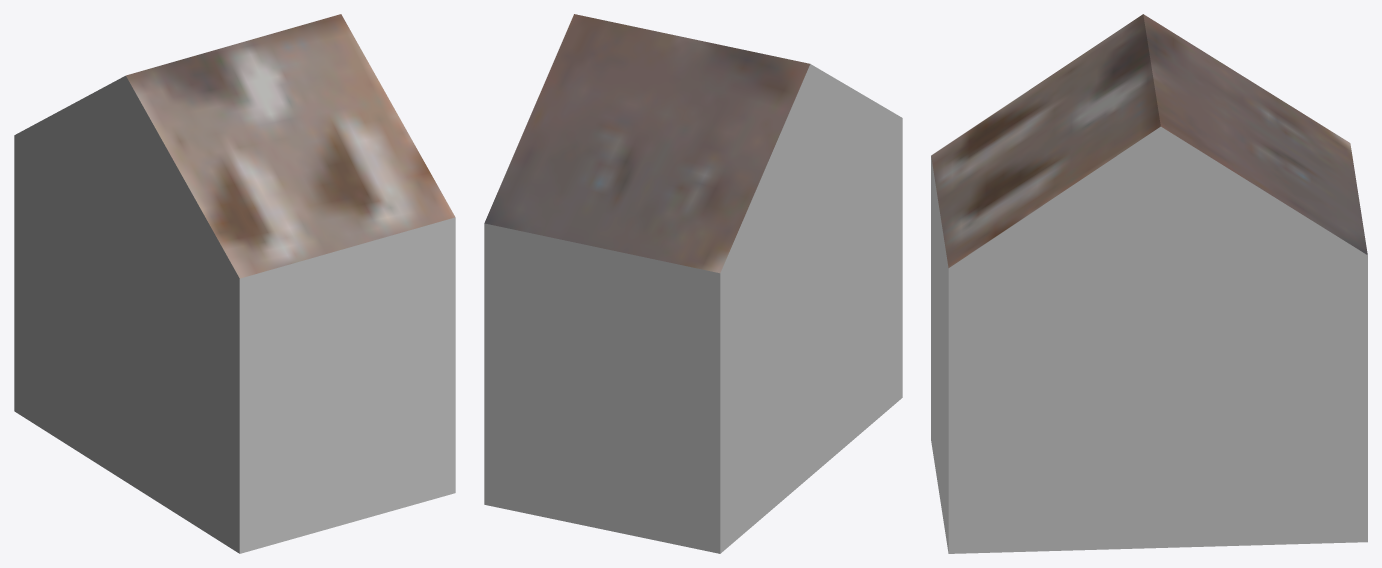
The model's file is DEBW_0010007Txac.gltf.
3 renders of one model, left to right at view 1: azimuth 30°, elevation 25°; view 2: azimuth 150°, elevation 25°; view 3: azimuth 270°, elevation 25°, orthographic. The views are drawn at different scales.
Visible parts, largest first — view 1: Z_UP; view 2: Z_UP; view 3: Z_UP.
Part boxes in pixels (<box>): Z_UP: <box>14,14,455,553</box>; Z_UP: <box>484,14,902,553</box>; Z_UP: <box>931,14,1367,553</box>.
Bounding box in the file's own units: 6.78 × 10.67 × 10.02.
2 materials, 1 textured.
